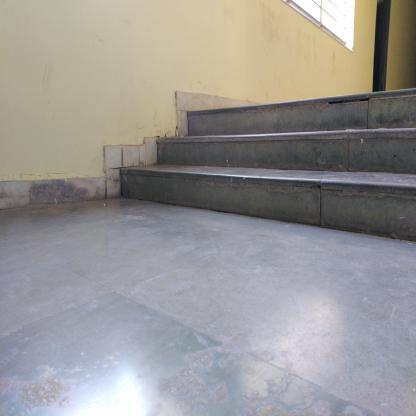stairs: (186, 99, 416, 225)
